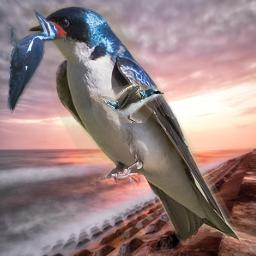Swallow: (27, 5, 243, 245), (89, 83, 164, 123)
Woodpecker: (5, 7, 67, 115)
